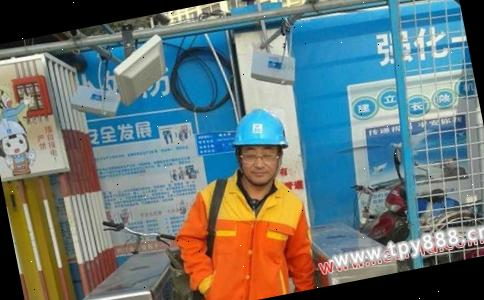helmet: (226, 103, 294, 156)
wear: (174, 163, 325, 300)
